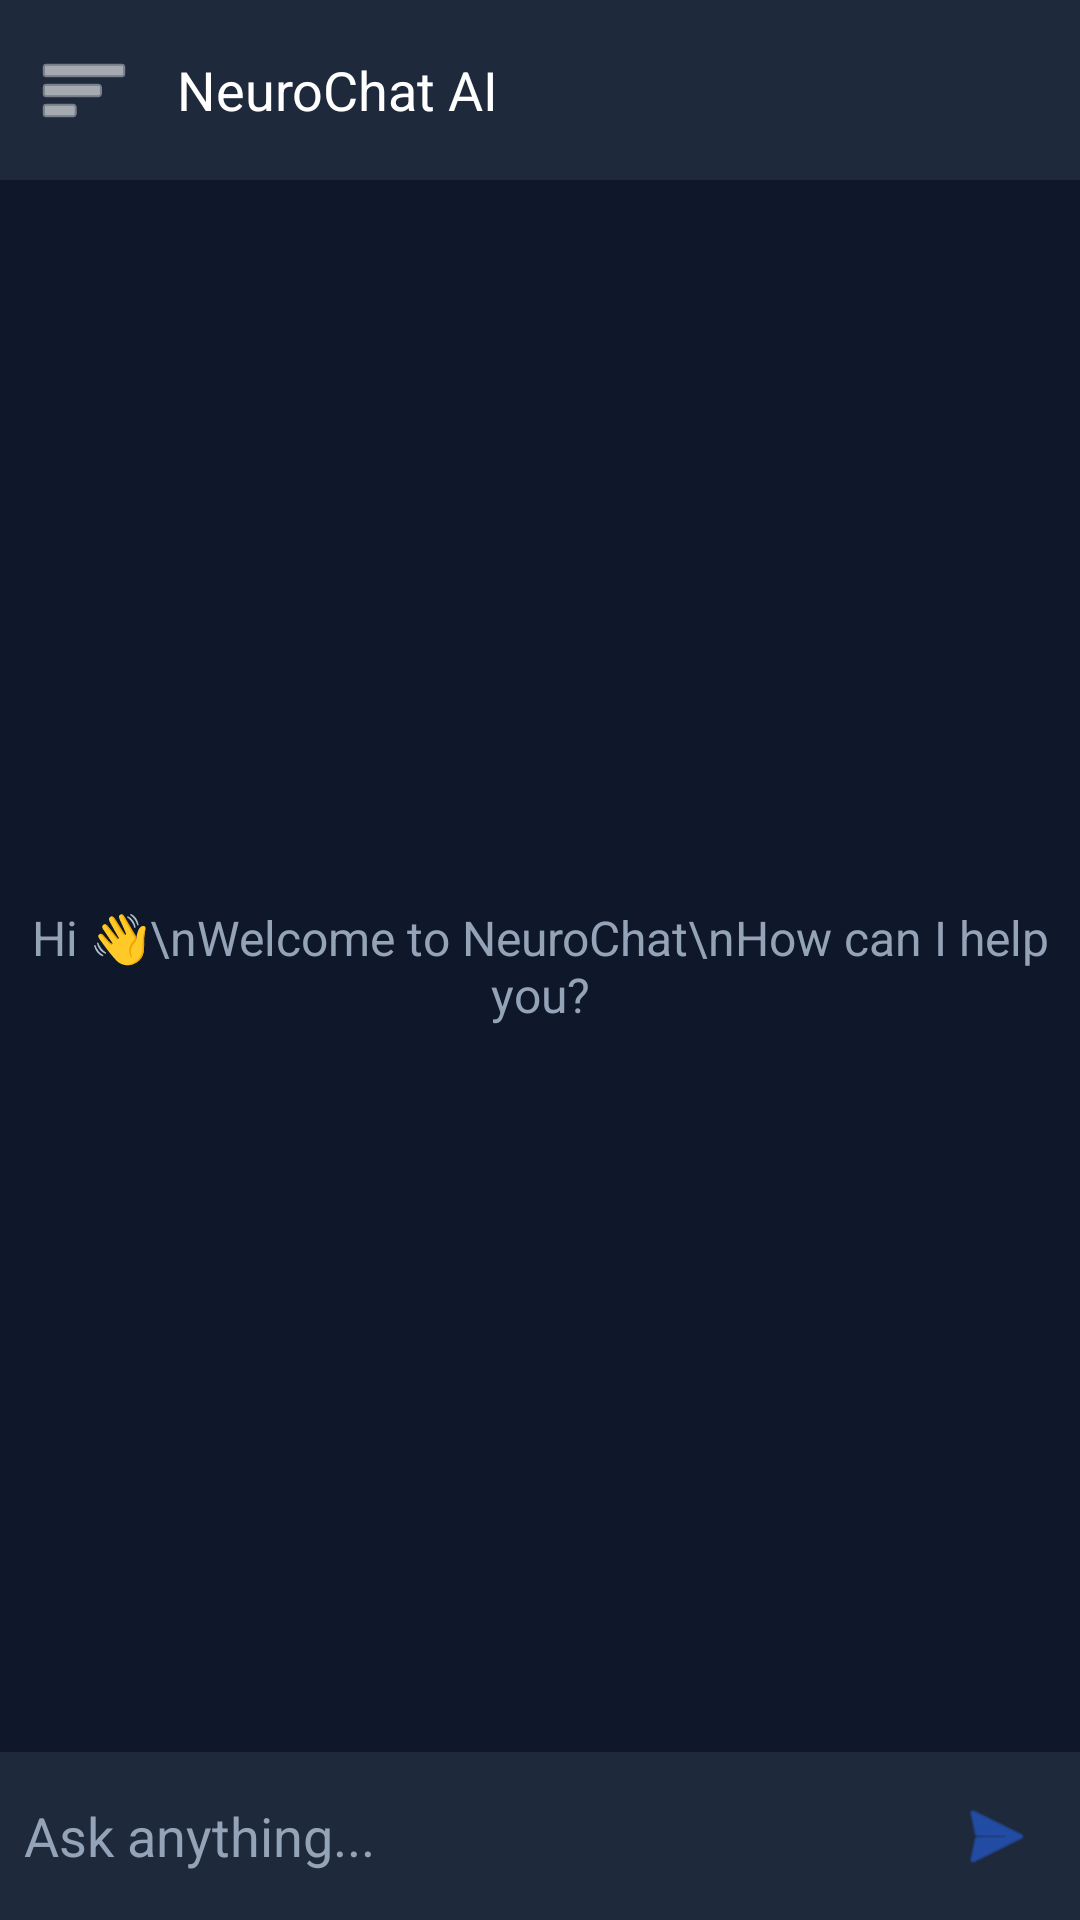

Named icons in this screenshot (1080*1920) and their centers, (x=x, y=y):
send: (x=997, y=1836)
sort by size: (x=84, y=90)
